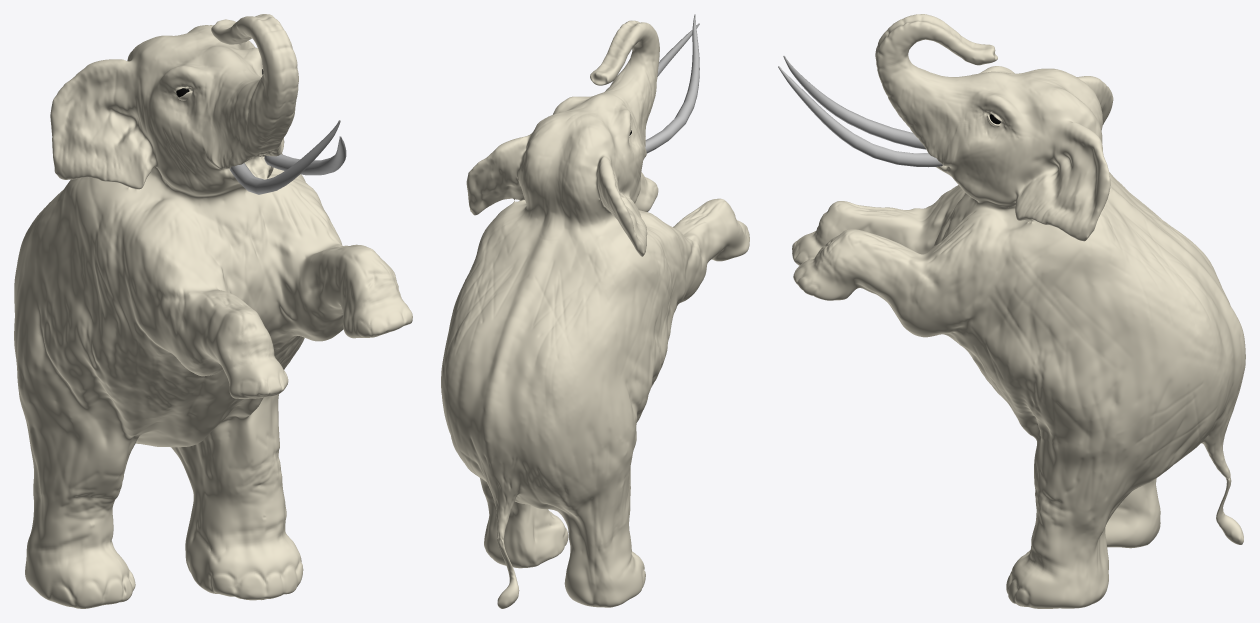
Rendered from Elephant.fbx.
3 renders of one model, left to right at view 1: azimuth 30°, elevation 25°; view 2: azimuth 150°, elevation 25°; view 3: azimuth 270°, elevation 25°, orthographic. The views are drawn at different scales.
Visible parts, largest first — view 1: Cube.001; view 2: Cube.001; view 3: Cube.001.
Part boxes in pixels (x1,y1,x2,y2): Cube.001: [14, 14, 412, 608]; Cube.001: [441, 14, 749, 608]; Cube.001: [778, 14, 1245, 608].
Bounding box in the file's own units: 189 × 488 × 373.
